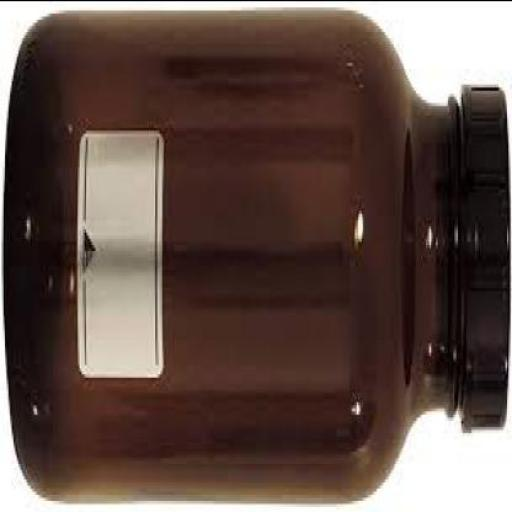glass: (3, 9, 465, 509)
metal: (453, 86, 511, 436)
